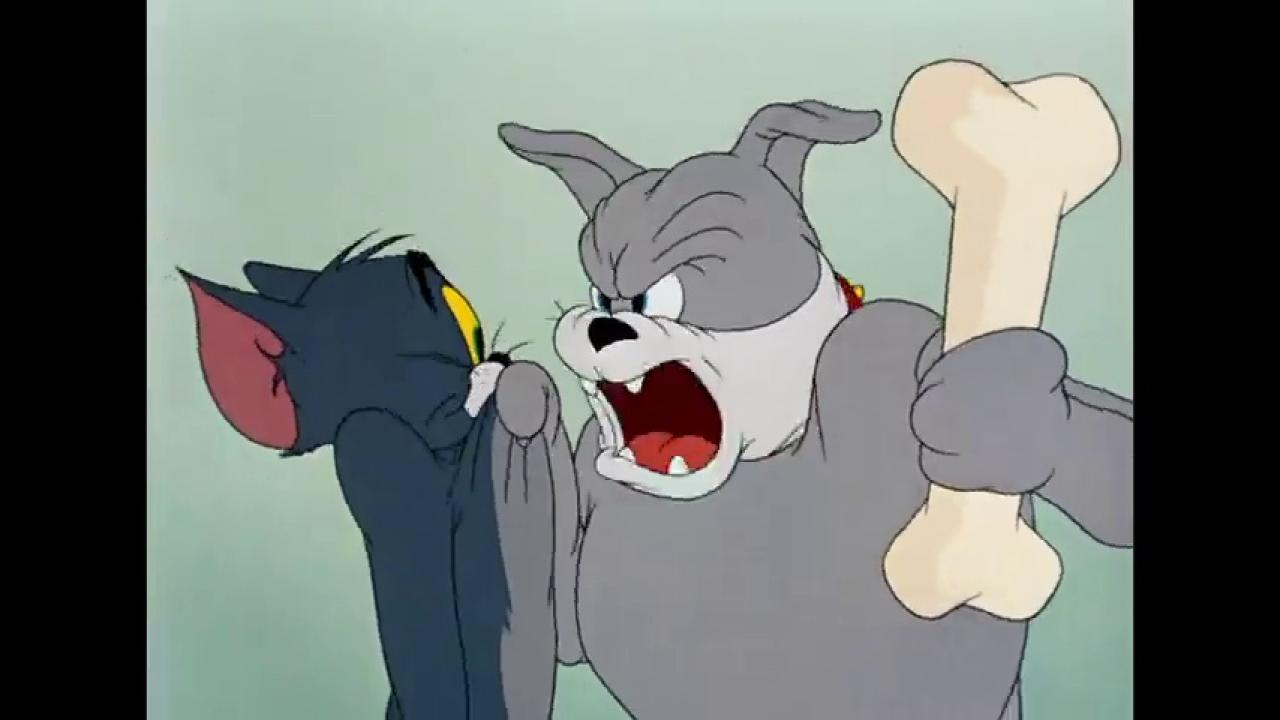Tom: (173, 243, 560, 720)
